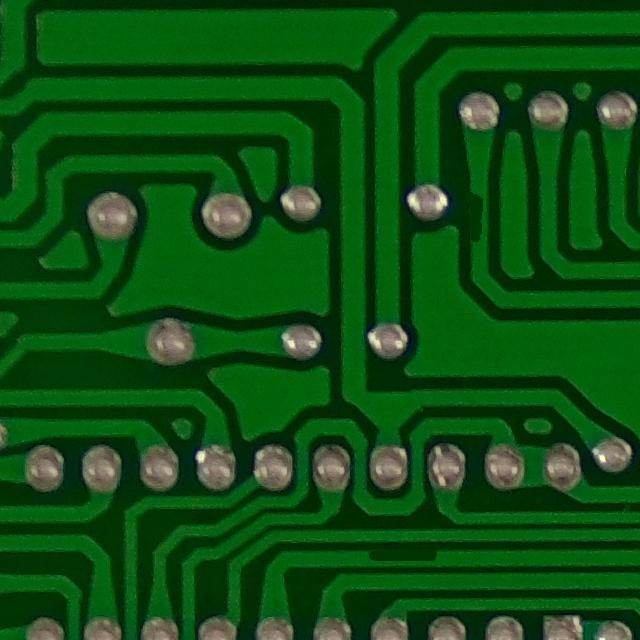mouse_bite: (359, 543, 453, 573), (459, 184, 496, 255)
